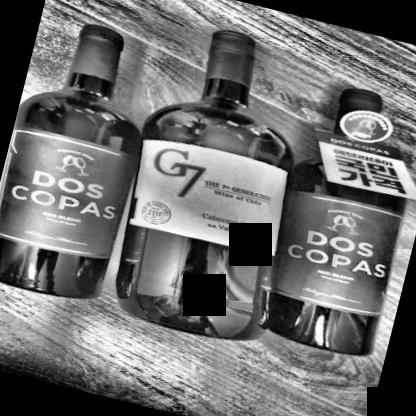G7: (128, 134, 299, 264)
